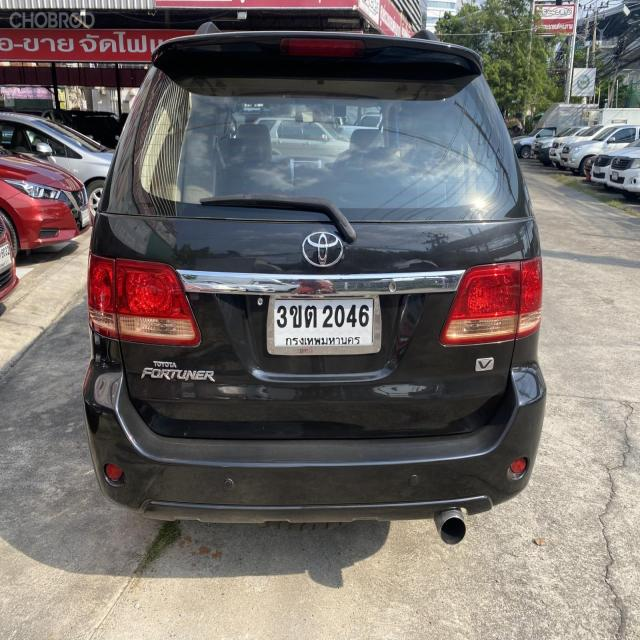license_plate: (269, 288, 382, 354)
